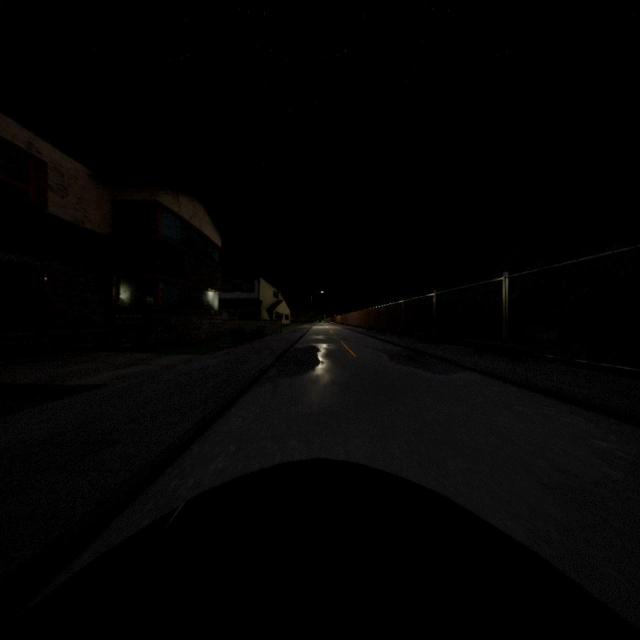Vehicle: (1, 454, 640, 639)
